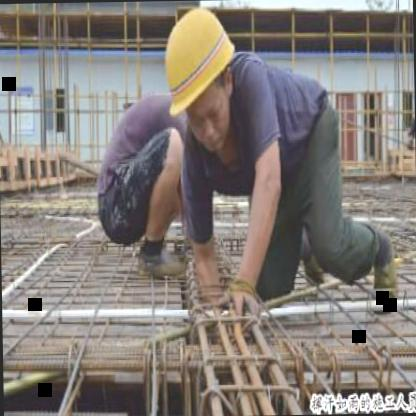helmet: (153, 0, 245, 155)
